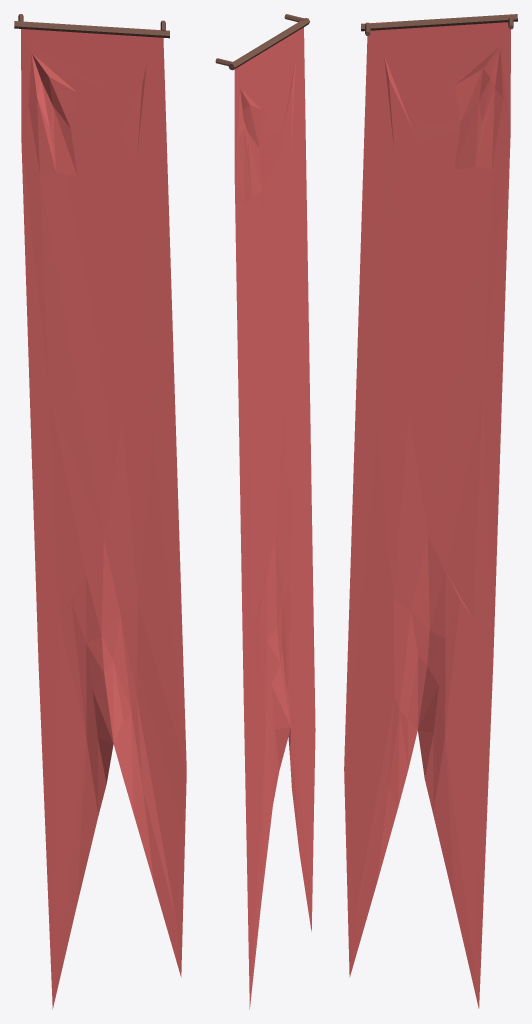
The model's file is banner.FBX.
The picture shows the model from 3 angles, left to right: view 1: azimuth 90°, elevation 25°; view 2: azimuth 150°, elevation 25°; view 3: azimuth 270°, elevation 25°; orthographic projection. The views are drawn at different scales.
Visible parts, largest first — view 1: banner_LOD0; view 2: banner_LOD0; view 3: banner_LOD0.
Part boxes in pixels (bbox=[...]): banner_LOD0: bbox=[14, 14, 186, 1009]; banner_LOD0: bbox=[215, 14, 315, 1009]; banner_LOD0: bbox=[344, 14, 517, 1008].
Size of what is drawn, in the model's own units: 138 by 4321 by 684.
